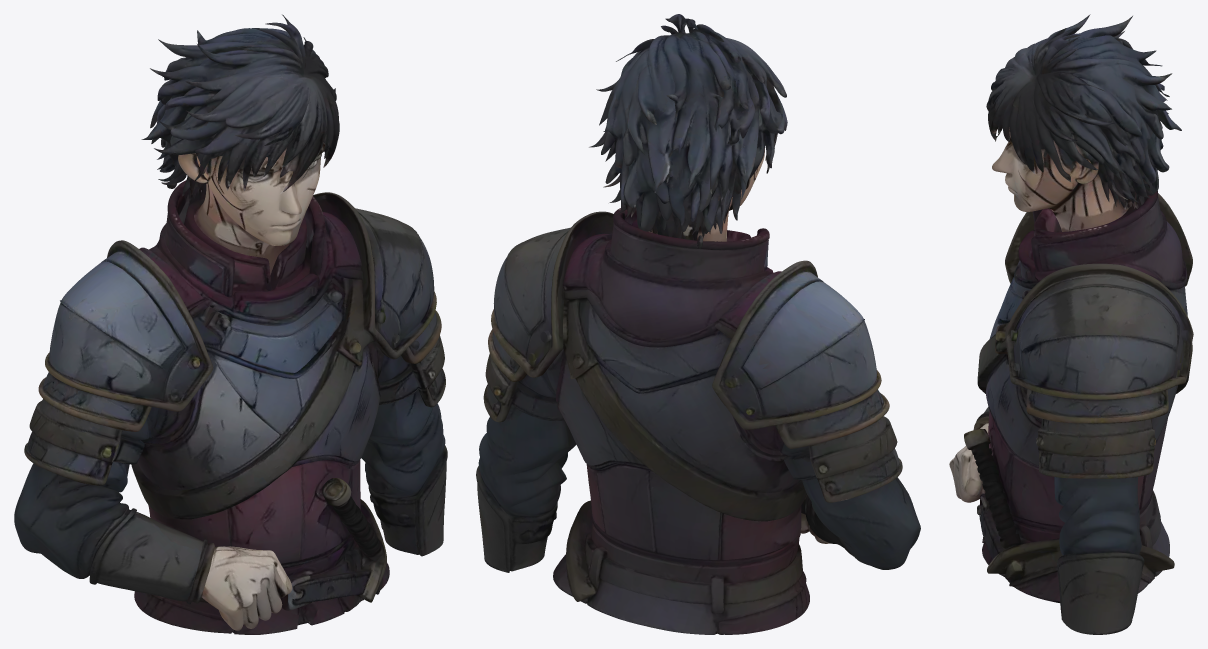
The model's file is av_lv2_comp.glb.
3 renders of one model, left to right at view 1: azimuth 30°, elevation 25°; view 2: azimuth 150°, elevation 25°; view 3: azimuth 270°, elevation 25°, orthographic. The views are drawn at different scales.
Parts seen in each view (by area): view 1: model; view 2: model; view 3: model.
Boxes of the visible parts, <box> form: model: <box>14,14,447,634</box>; model: <box>476,14,920,634</box>; model: <box>949,14,1193,634</box>.
Size of the model in its own units: 1.38 by 1.73 by 0.7335.
1 material, 1 textured.
